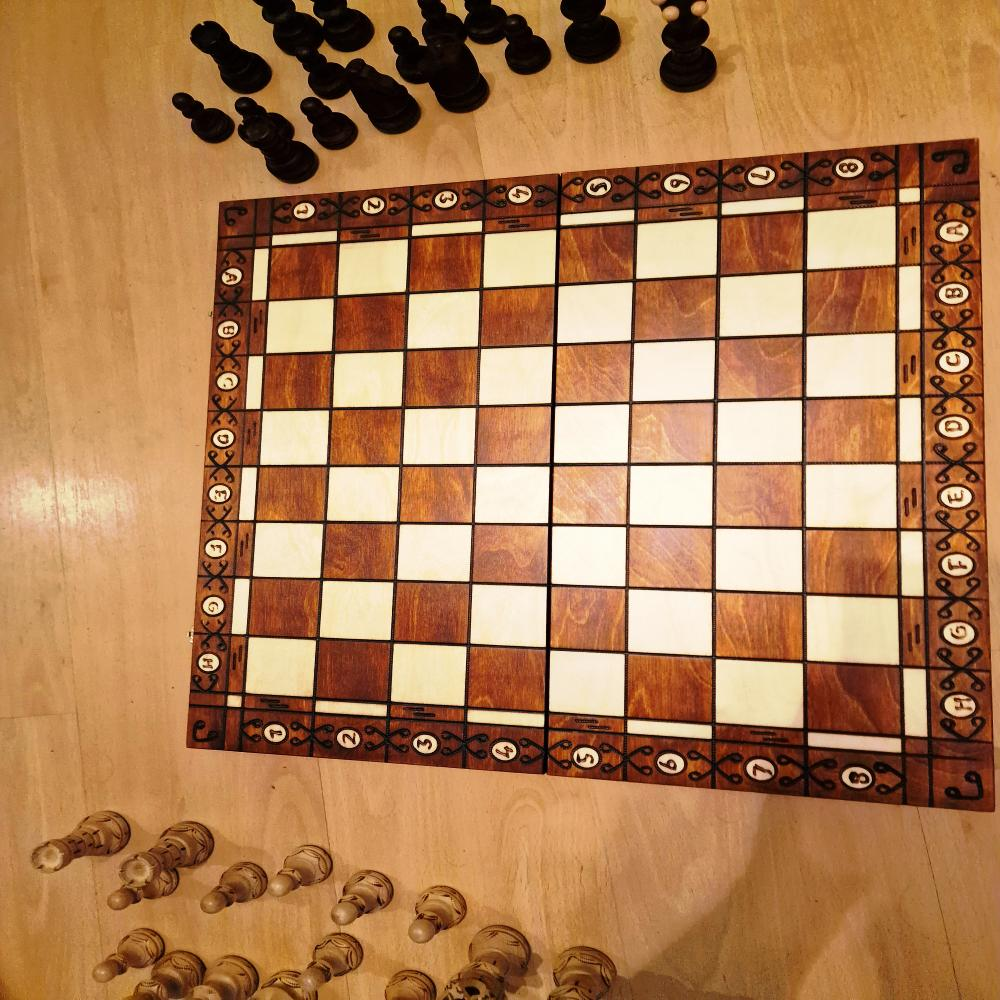chessfield: (803, 666, 895, 738), (803, 596, 898, 665), (715, 662, 804, 731), (804, 465, 897, 531), (804, 530, 897, 596), (806, 268, 898, 334), (714, 593, 804, 660), (806, 333, 900, 397), (805, 399, 896, 464), (625, 654, 711, 722), (806, 207, 897, 270), (626, 590, 712, 656), (716, 530, 804, 594), (716, 465, 803, 529), (626, 528, 714, 591), (718, 401, 804, 465), (718, 338, 805, 401), (721, 272, 805, 336), (634, 277, 719, 340), (720, 214, 806, 276), (632, 342, 716, 404), (630, 404, 714, 466), (545, 650, 623, 716), (635, 216, 718, 278), (629, 466, 713, 527), (465, 647, 545, 711), (547, 586, 623, 652), (394, 582, 472, 645), (470, 586, 547, 649), (559, 280, 637, 342), (390, 644, 467, 706), (555, 345, 634, 405), (313, 641, 389, 703), (555, 405, 631, 467), (319, 581, 393, 642), (553, 527, 627, 588), (550, 464, 624, 525), (480, 286, 556, 345), (472, 526, 548, 585), (561, 227, 637, 286), (478, 349, 553, 408), (474, 466, 550, 524), (475, 407, 551, 465), (401, 464, 475, 523), (483, 232, 558, 290), (399, 524, 473, 582), (406, 351, 480, 409), (246, 638, 317, 698), (402, 410, 477, 466), (250, 581, 321, 640), (338, 296, 410, 354), (409, 294, 482, 351), (411, 238, 485, 294), (327, 464, 398, 522), (332, 411, 404, 468), (336, 354, 408, 410), (323, 525, 395, 581), (340, 242, 413, 297), (260, 412, 330, 468), (262, 356, 333, 411), (253, 524, 323, 579), (266, 300, 334, 356), (256, 469, 326, 523), (268, 246, 337, 300)
